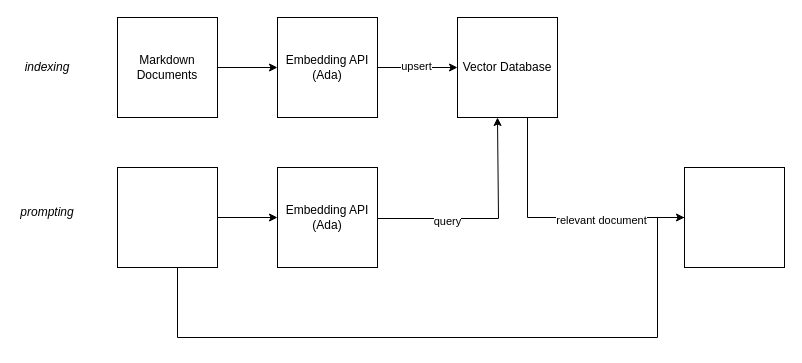
This 802x363 diagram has some shape labels left out. Here are the shapes that lost their labels. From the top down, the centre of each, then its label:
(167,217): User Prompt
(734,217): Conversation API
